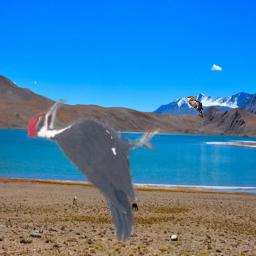Cuckoo: (185, 96, 203, 118)
Woodpecker: (24, 99, 160, 241)
